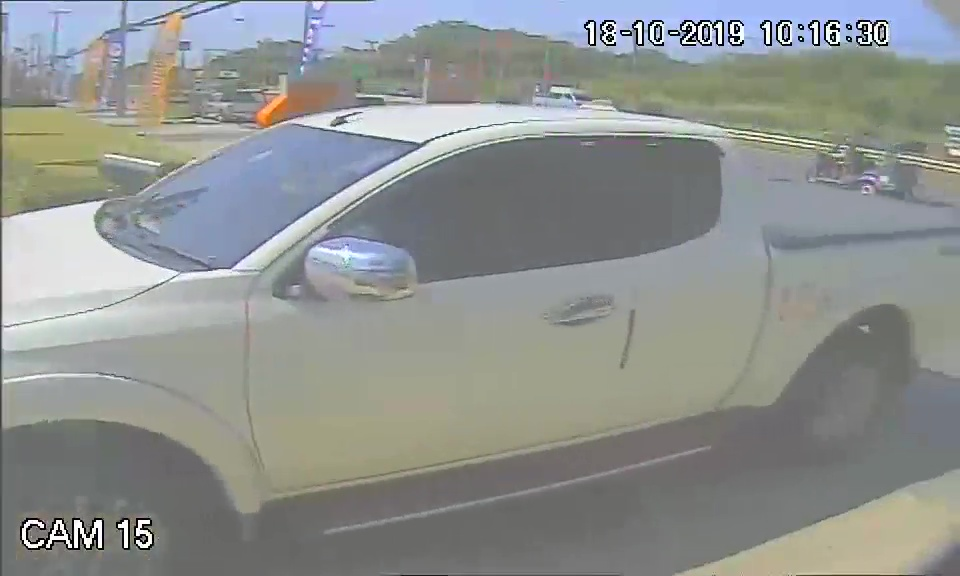pickup: (9, 102, 960, 516)
